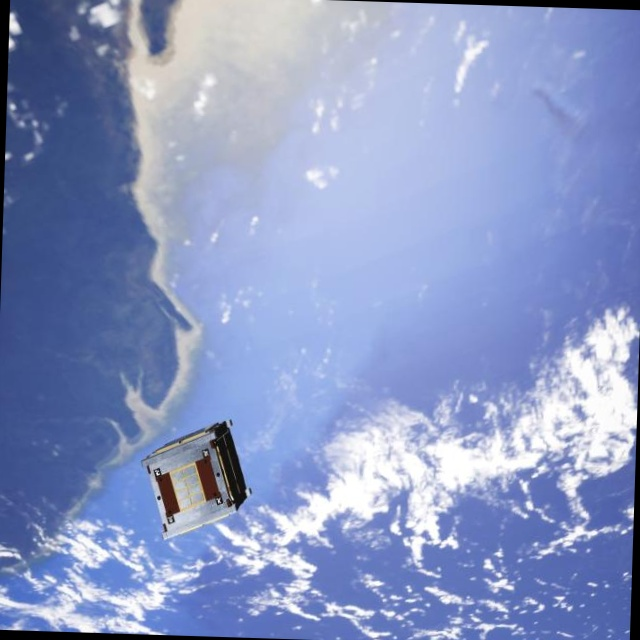satellite: (138, 413, 255, 543)
